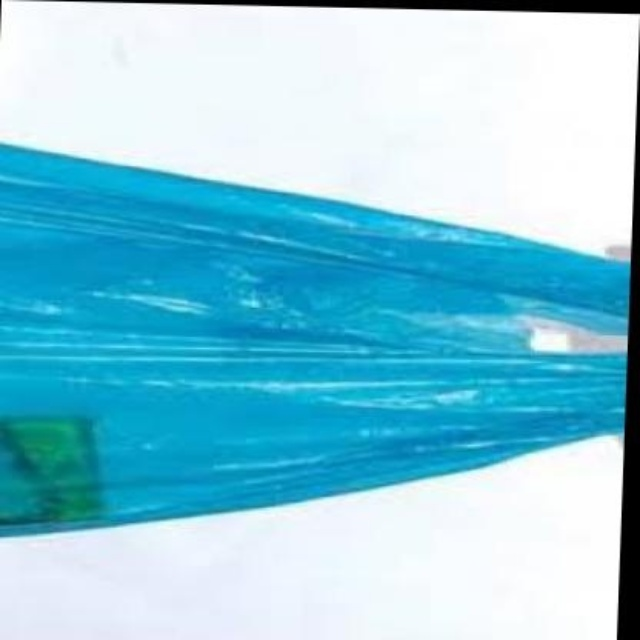trash: (0, 145, 626, 534)
